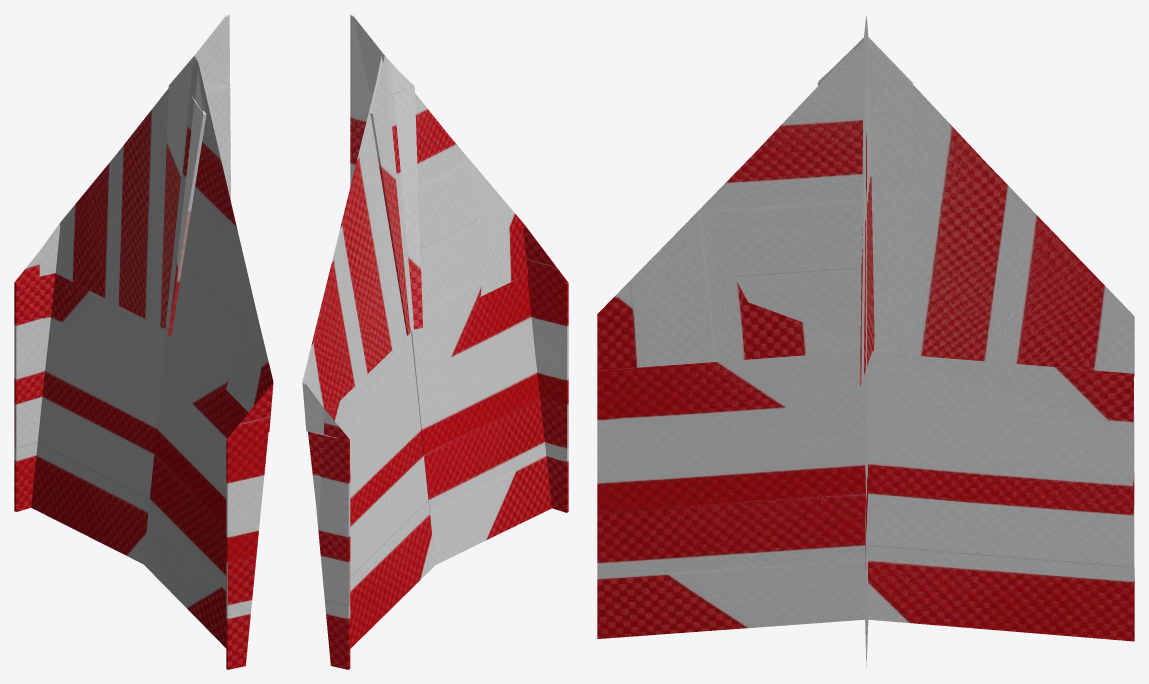
3 views of the same model, side by side, from view 1: azimuth 30°, elevation 25°; view 2: azimuth 150°, elevation 25°; view 3: azimuth 270°, elevation 25° (orthographic). The views are drawn at different scales.
Parts seen in each view (by area): view 1: Origami_Model_50.001; view 2: Origami_Model_50.001; view 3: Origami_Model_50.001.
Part boxes in pixels (left/top/right/bottom): Origami_Model_50.001: left=14, top=14, right=273, bottom=669; Origami_Model_50.001: left=302, top=14, right=568, bottom=669; Origami_Model_50.001: left=597, top=15, right=1134, bottom=668.
Bounding box in the file's own units: 0.0383 × 0.1829 × 0.131.
Materials: 1 (1 with a texture image).
